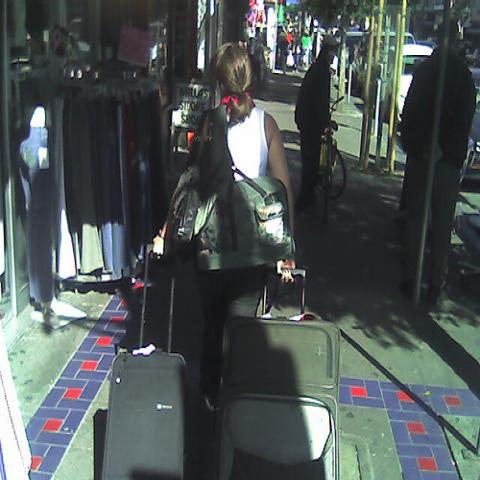car: (385, 44, 434, 133), (459, 66, 479, 180), (344, 32, 367, 67)
